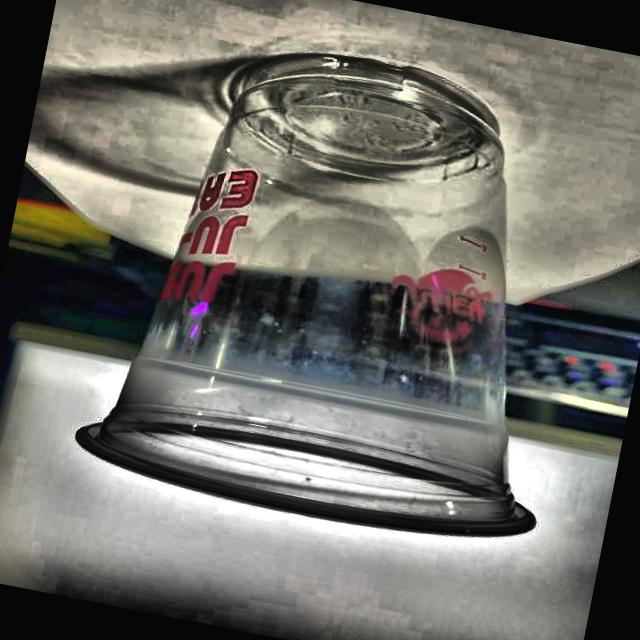plastic cup: (61, 12, 620, 563)
